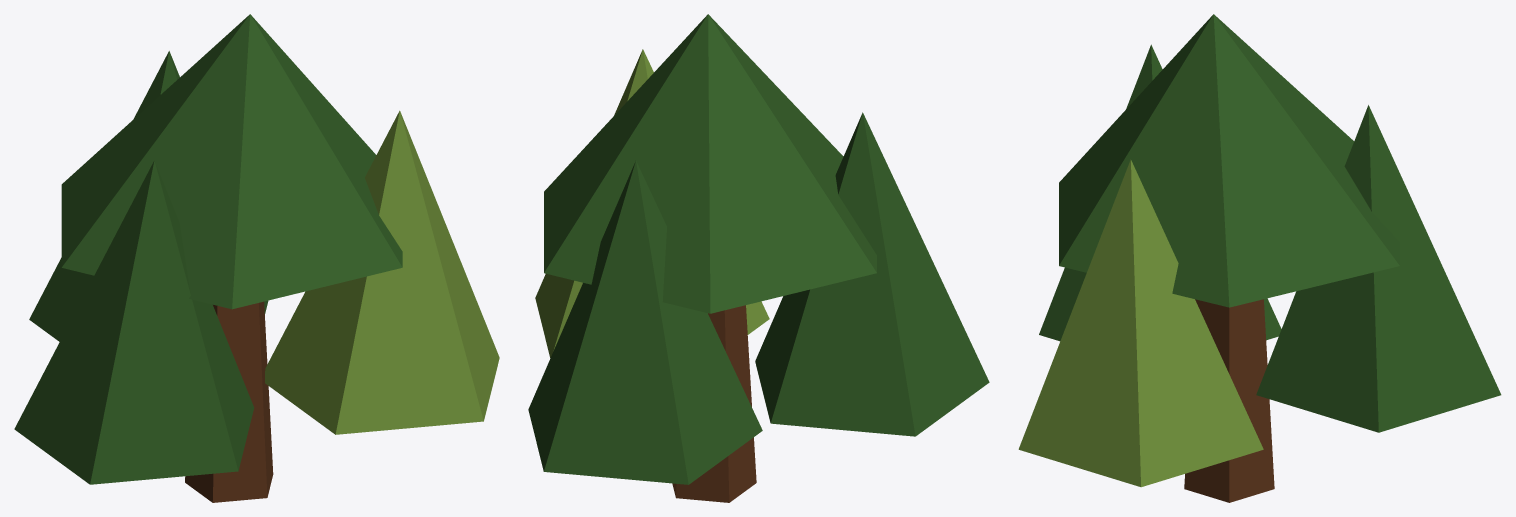
The model's file is Willow.fbx.
The picture shows the model from 3 angles, left to right: view 1: azimuth 30°, elevation 25°; view 2: azimuth 150°, elevation 25°; view 3: azimuth 270°, elevation 25°; orthographic projection. The views are drawn at different scales.
Parts seen in each view (by area): view 1: Willow; view 2: Willow; view 3: Willow.
Boxes of the visible parts, left/top/right/bottom form: Willow: left=14, top=14, right=499, bottom=502; Willow: left=528, top=14, right=989, bottom=502; Willow: left=1018, top=14, right=1501, bottom=502.
Bounding box in the file's own units: 74.37 × 77 × 71.14.
